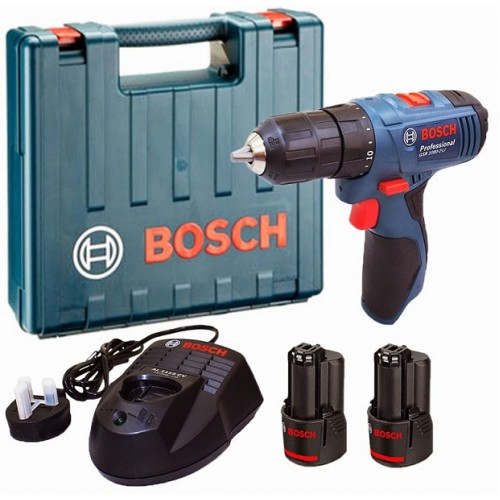Bosch: (135, 206, 293, 270), (181, 335, 232, 359), (418, 120, 461, 142), (370, 425, 404, 441), (287, 423, 319, 439)
